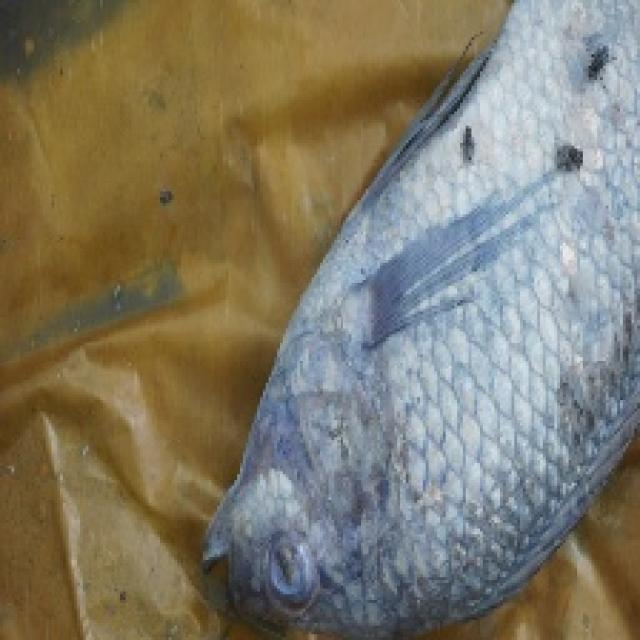Non-Fresh: (352, 62, 620, 613)
